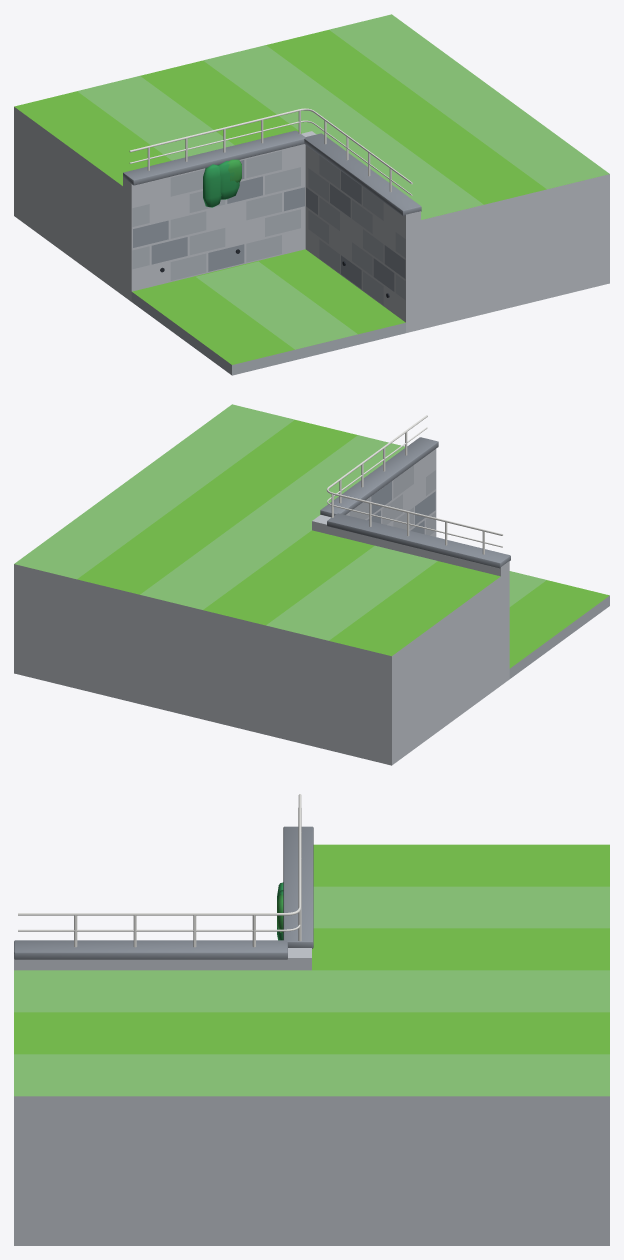
Rendered from plato_canto_int.glb.
The picture shows the model from 3 angles, top to bottom: view 1: azimuth 30°, elevation 25°; view 2: azimuth 150°, elevation 25°; view 3: azimuth 270°, elevation 25°; orthographic projection. The views are drawn at different scales.
Parts seen in each view (by area): view 1: plato_canto_int; view 2: plato_canto_int; view 3: plato_canto_int.
Part boxes in pixels (box(x1,y1,x2,y2)): plato_canto_int: box(14, 14, 609, 375); plato_canto_int: box(14, 404, 609, 765); plato_canto_int: box(14, 794, 609, 1245).
Bounding box in the file's own units: 15 × 5.6 × 15.
1 material, 1 textured.
